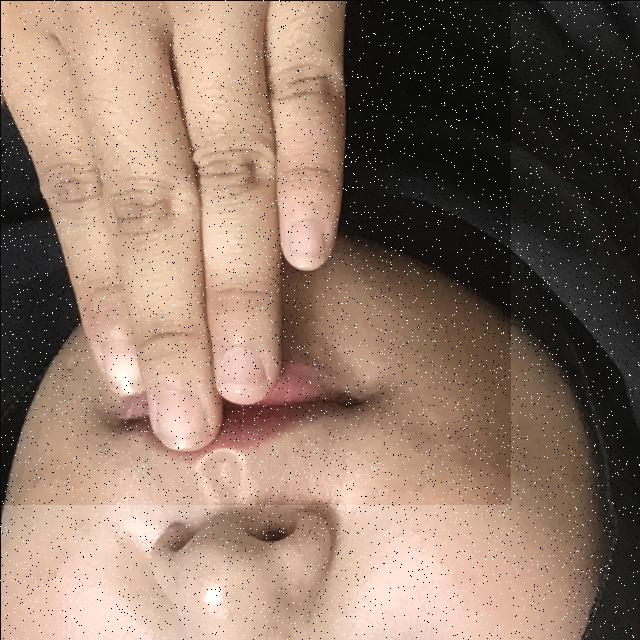ganteng: (0, 0, 510, 504)
